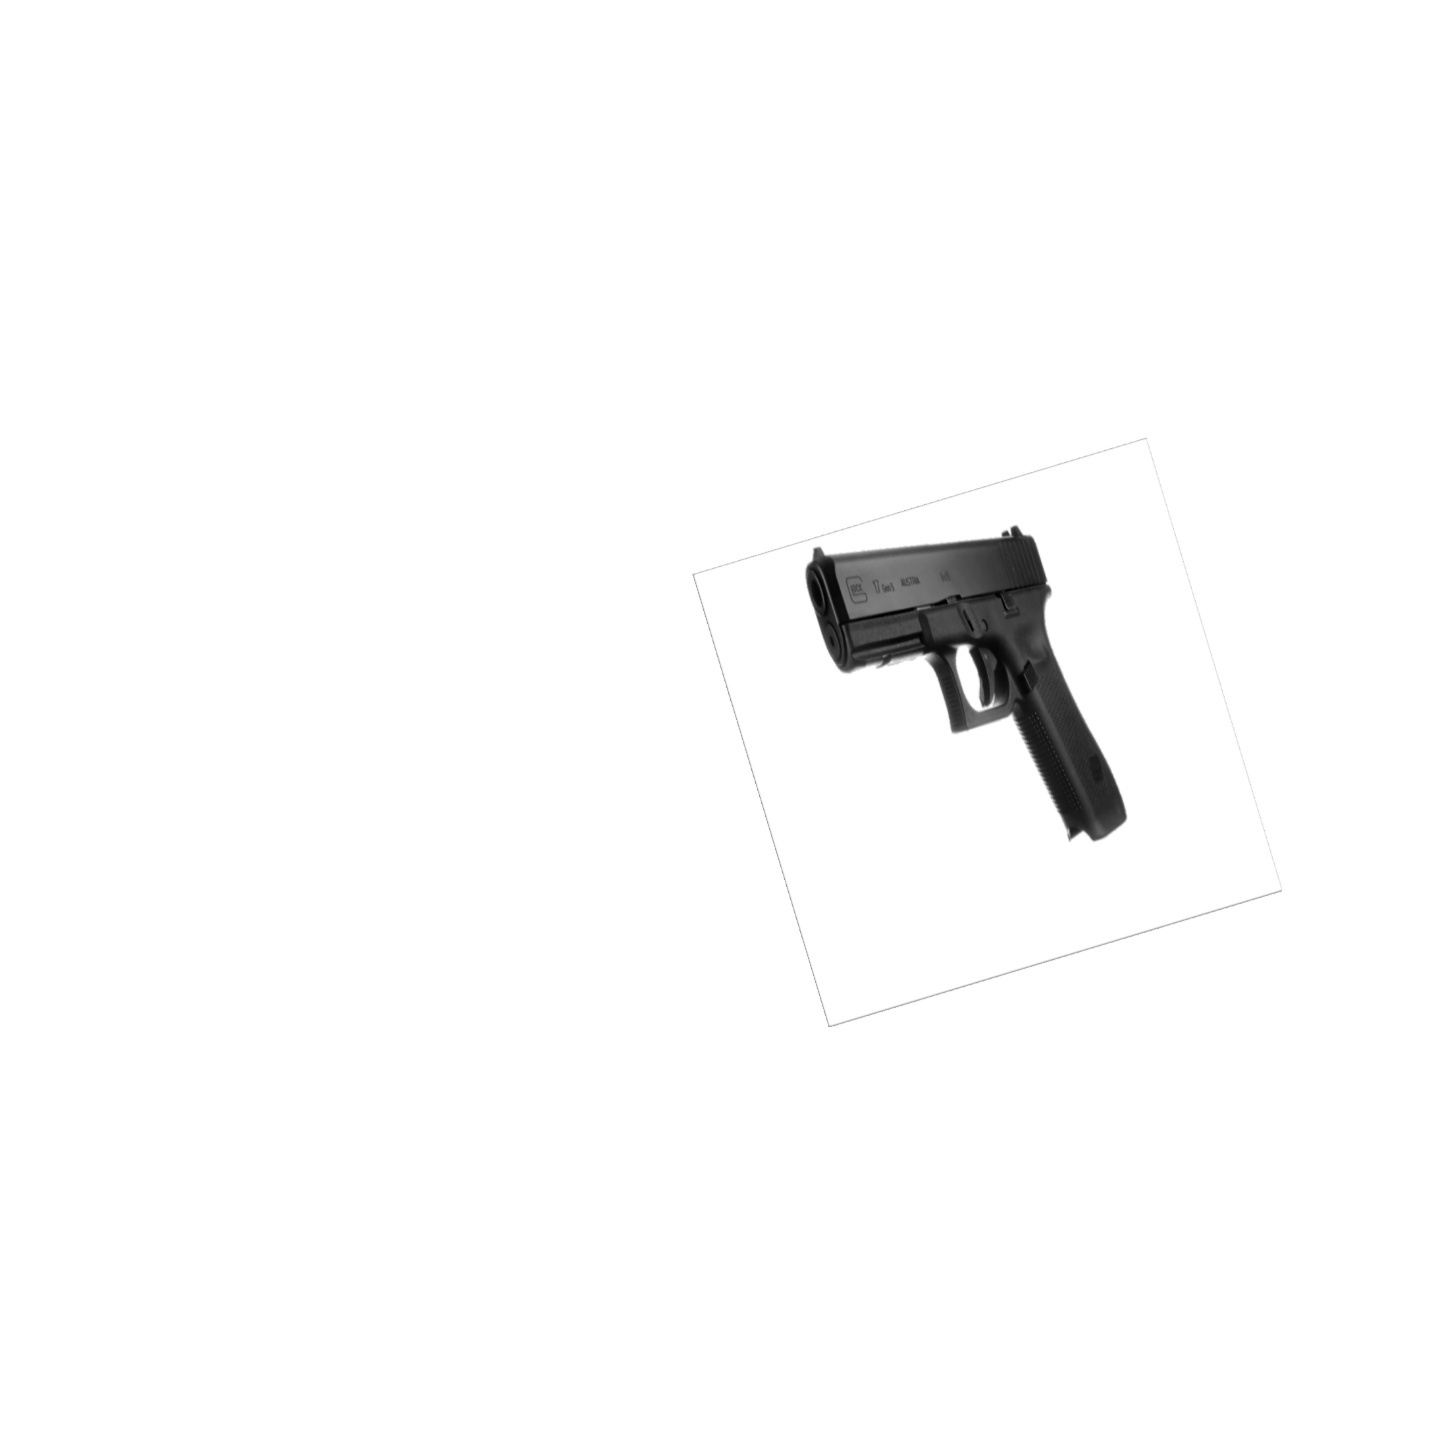gun: (803, 521, 1131, 847)
